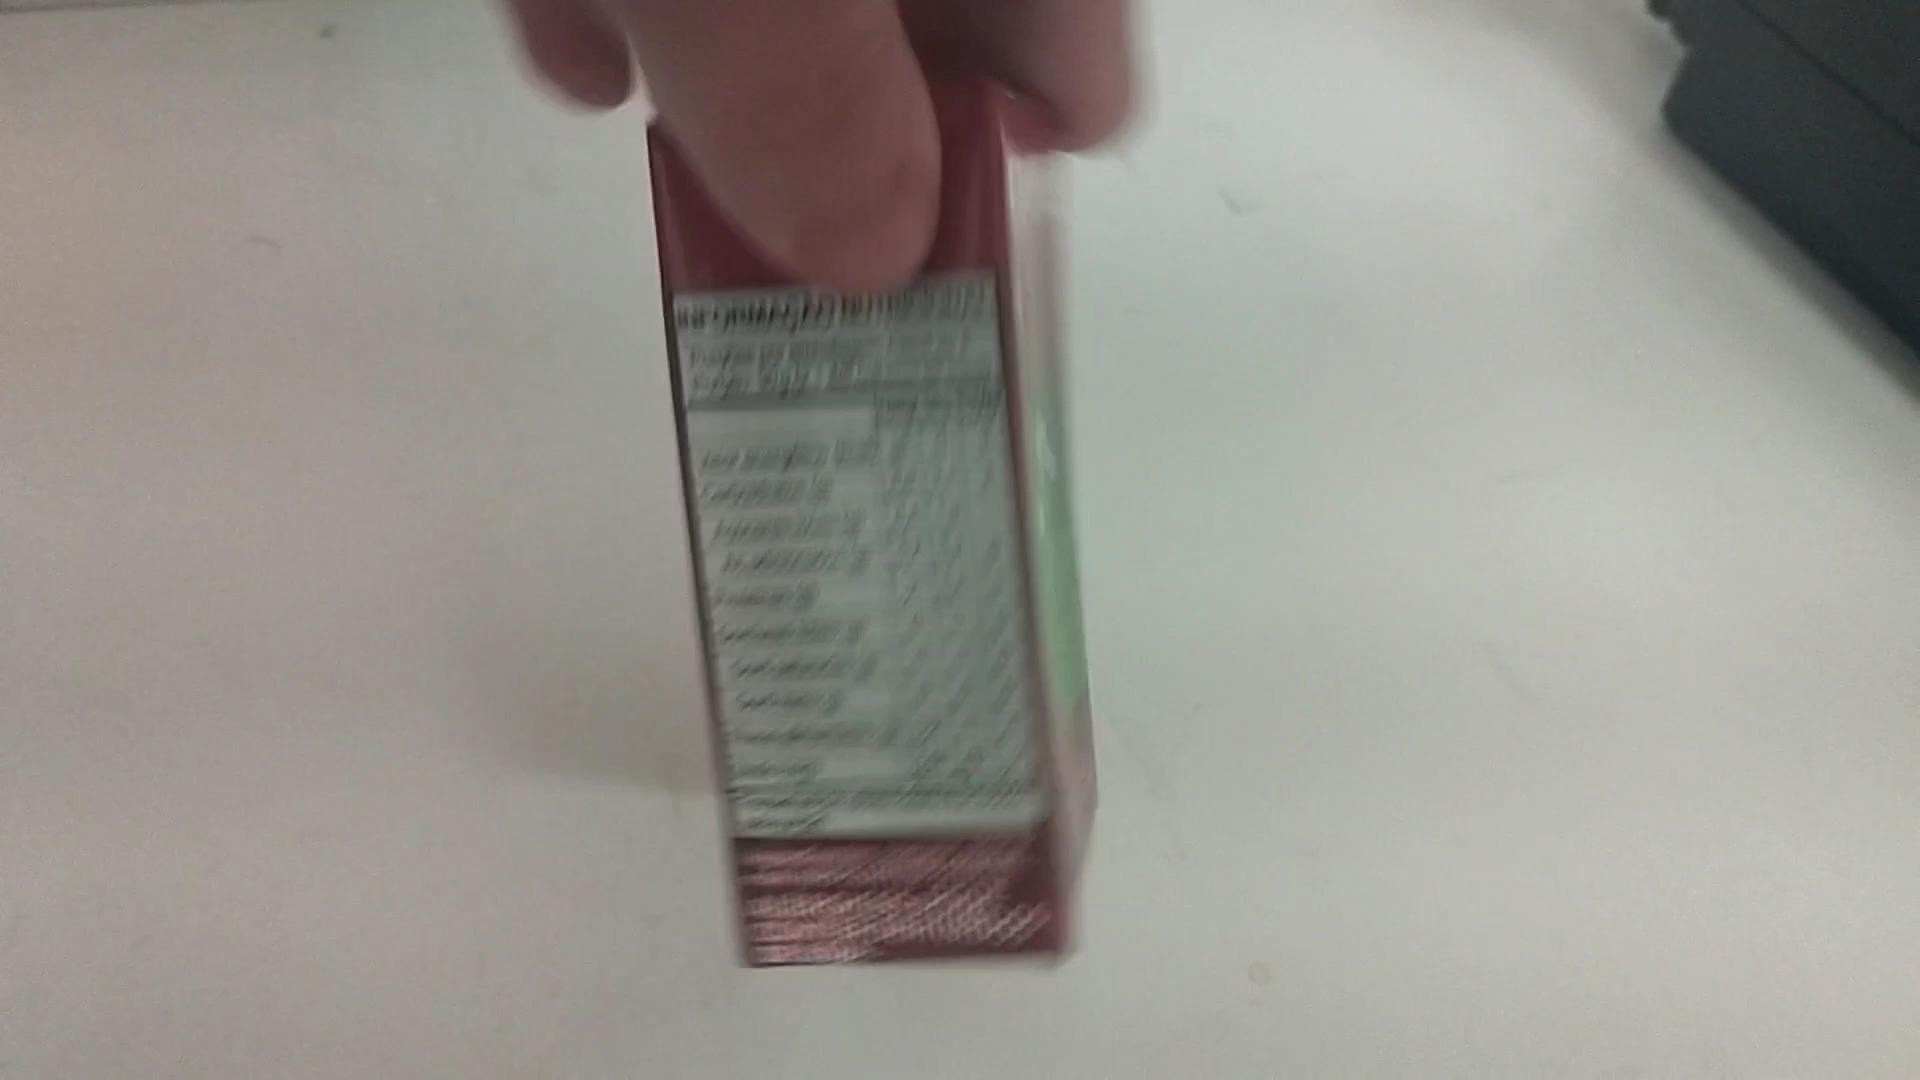tomate: (646, 70, 1100, 988)
